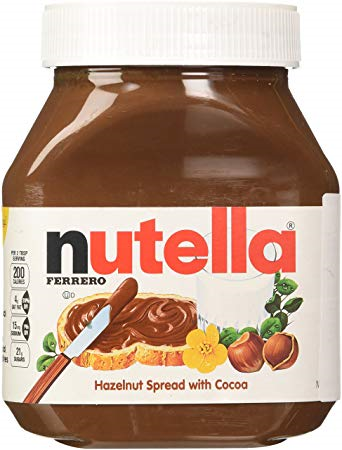nutella: (3, 3, 341, 448)
